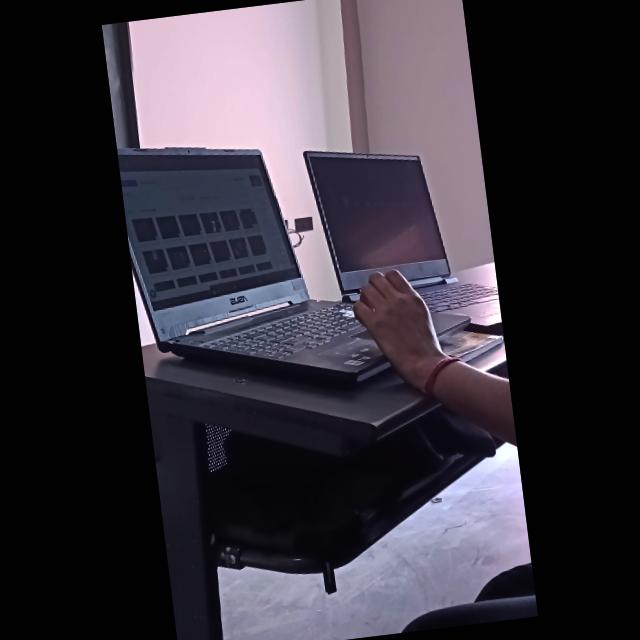laptop: (119, 133, 424, 458), (303, 126, 498, 303)
